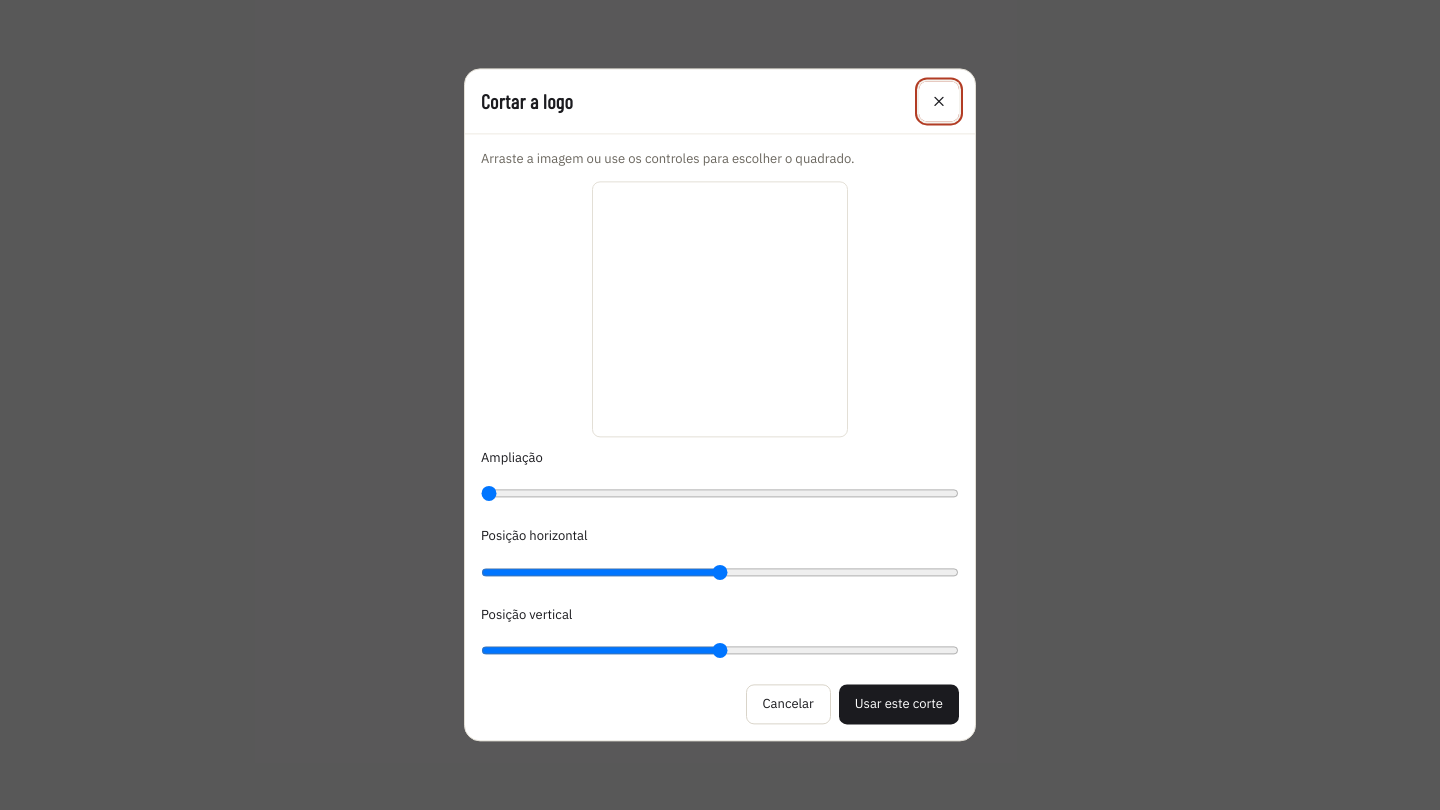
Test case: LogoCropDialog (CA16) › arrastar a prévia move o quadrado e o limite é a borda da imagem
The image size is (1440, 810).
Expected: the button "Usar este corte" is enabled, [839,685,959,725]
Press the mouse on the picture named "Prévia do corte da logo" at (720, 309), box [592,181,848,437]
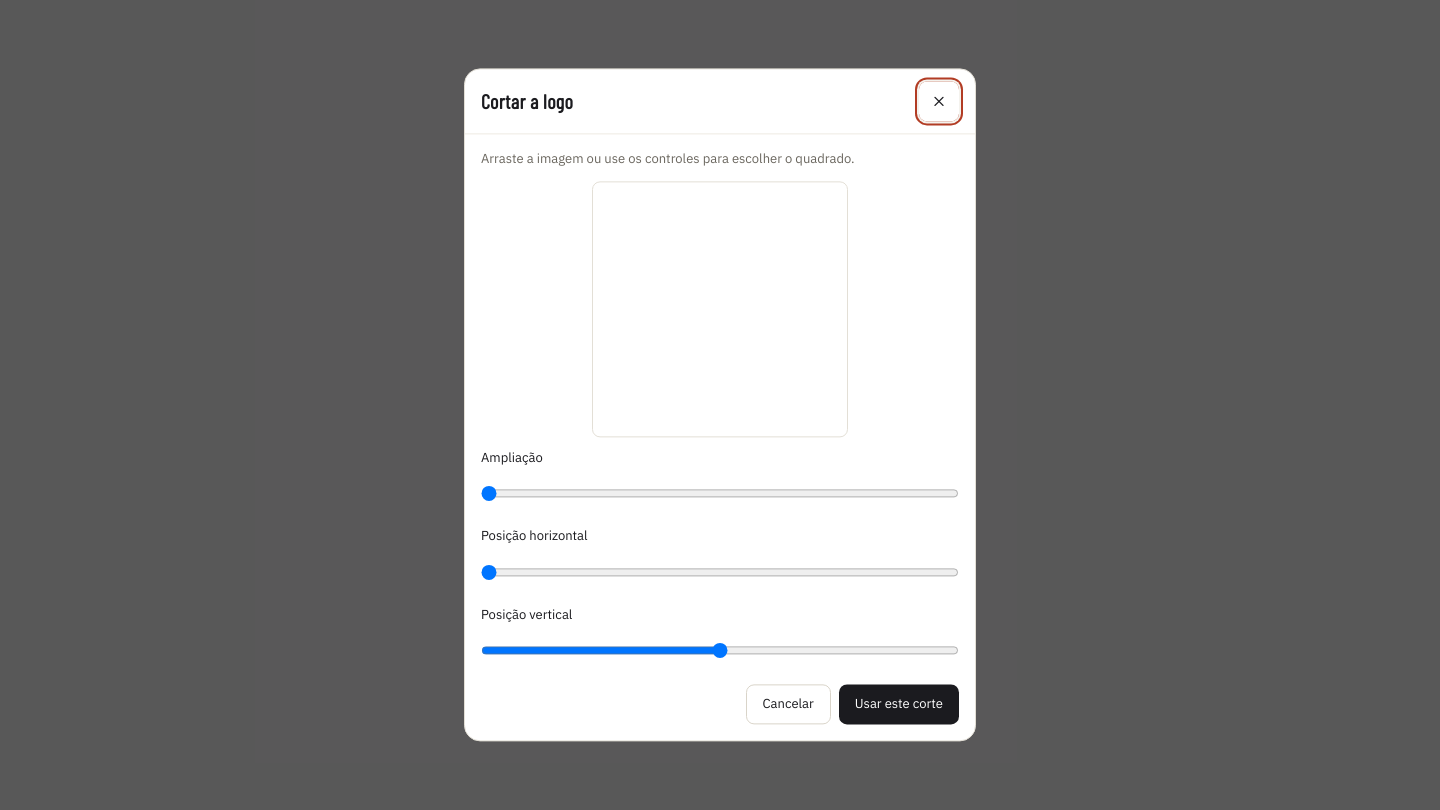
Expected: the slider labelled "Posição horizontal" holds "0", [481,550,959,594]
